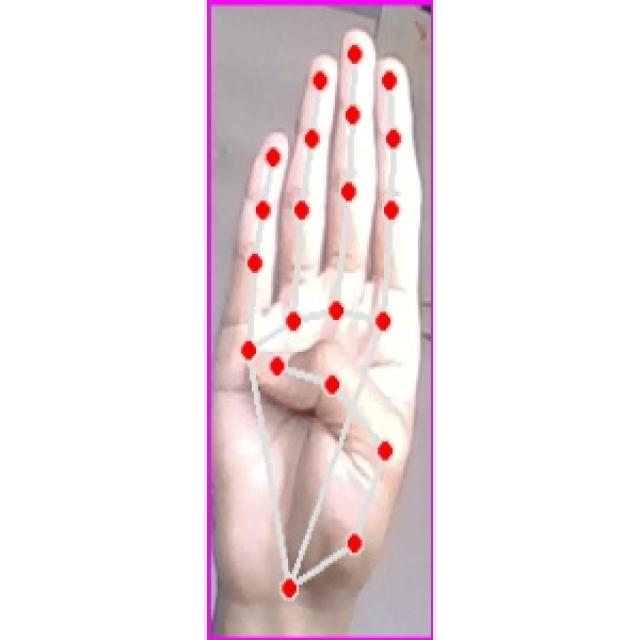B: (219, 20, 427, 604)
